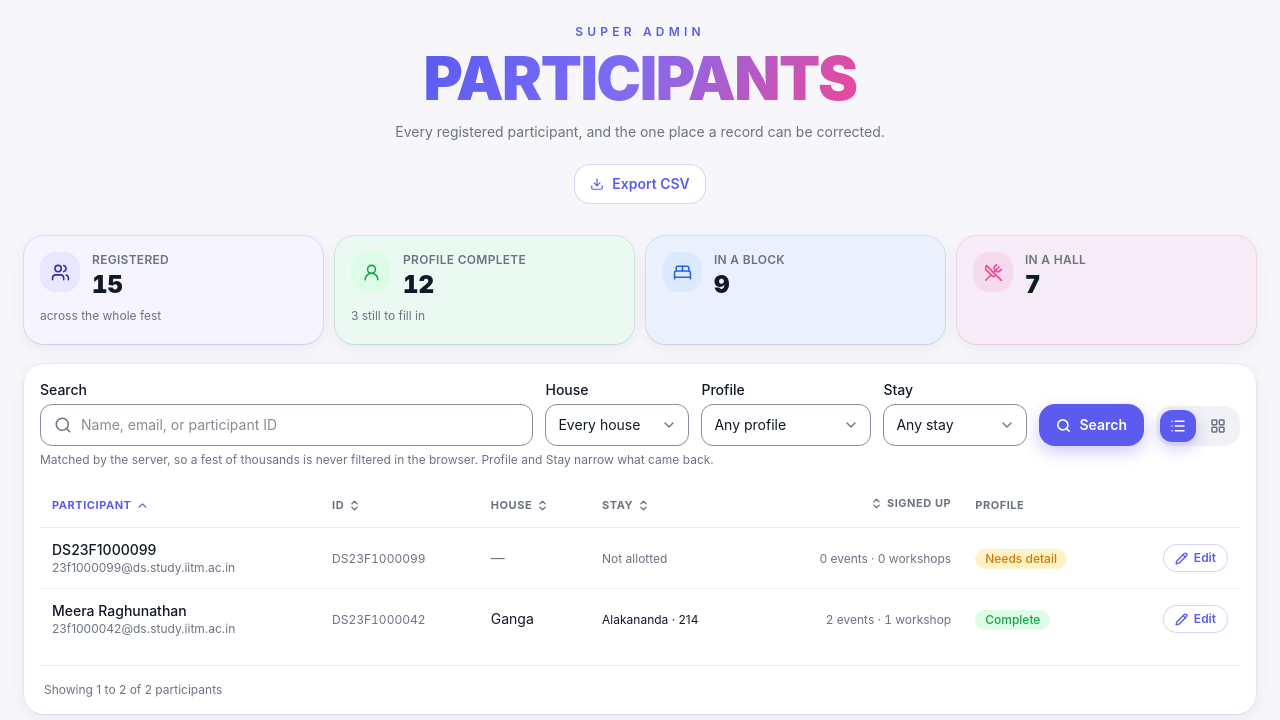
AdminParticipantsPage › switches the cards to the matching rows once a search is applied
This screenshot has width=1280, height=720.
Check: the text "Meera Raghunathan" is shown, box [52, 602, 187, 619]
Step 1. Click the field labelled "Search" → [287, 425], box [40, 404, 534, 446]
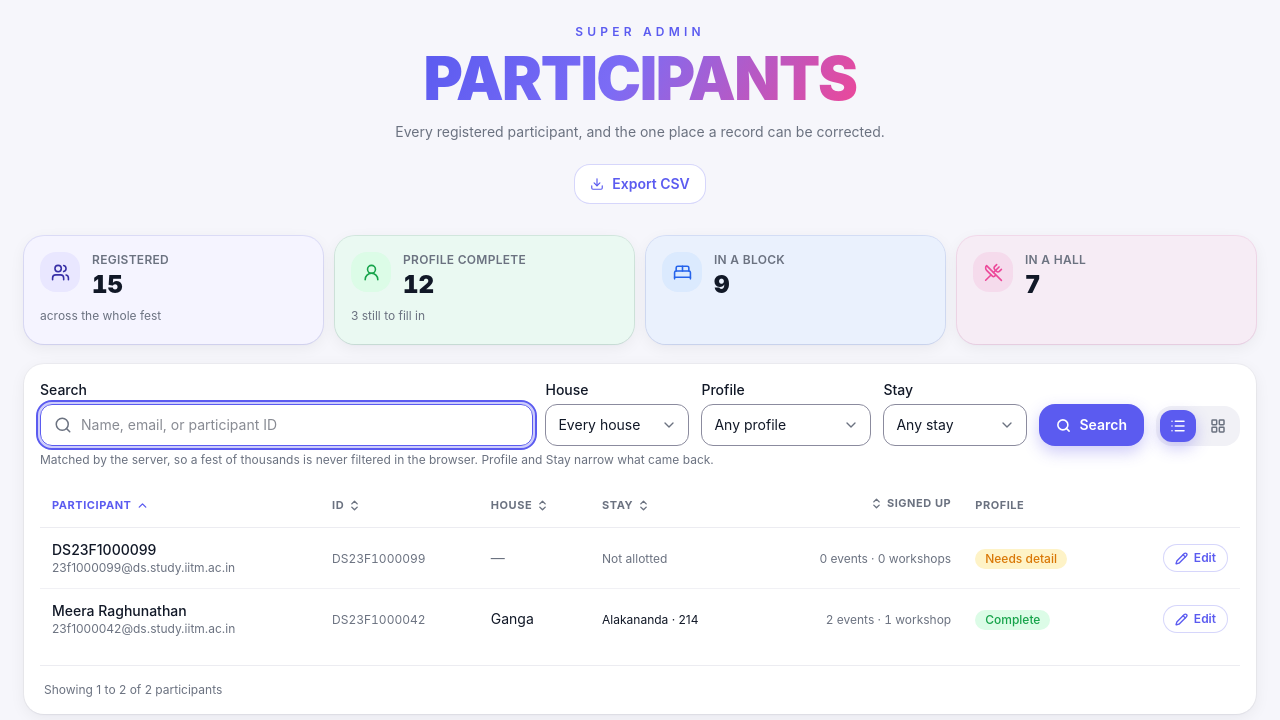
Step 2. Type keys "meera"
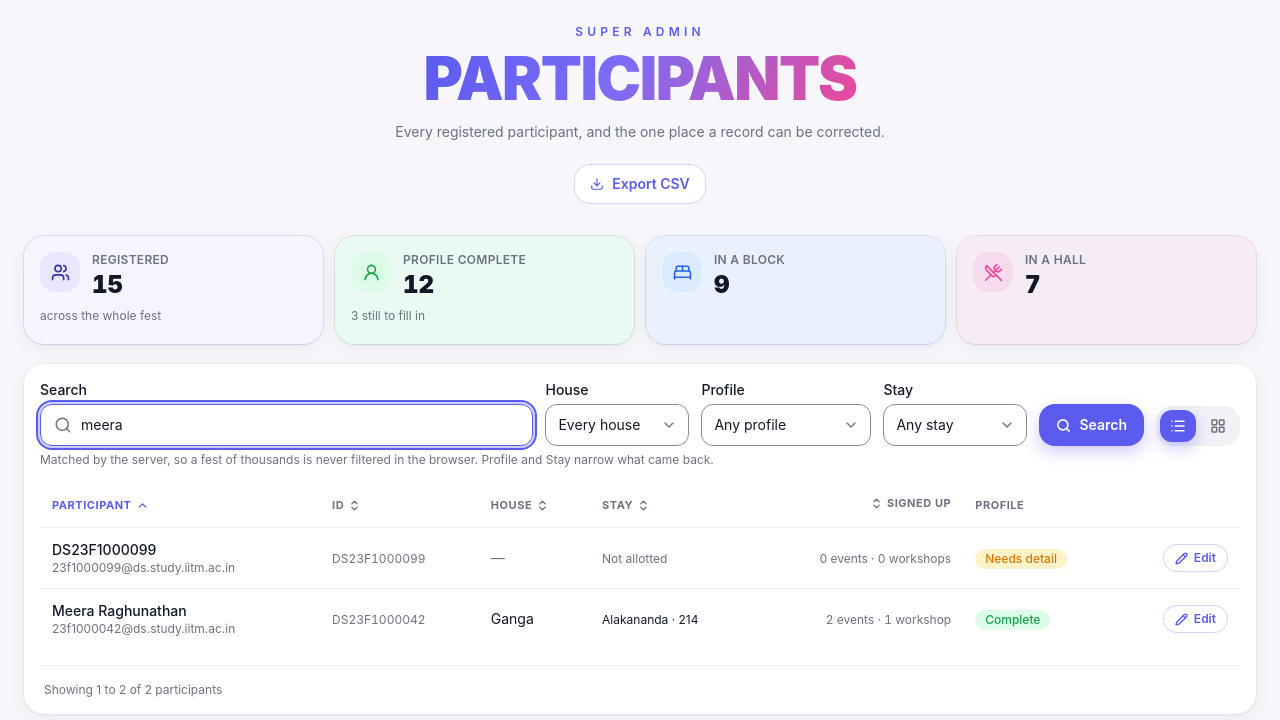
Step 3. Click the button "Search" → [1092, 425], box [1040, 404, 1144, 446]
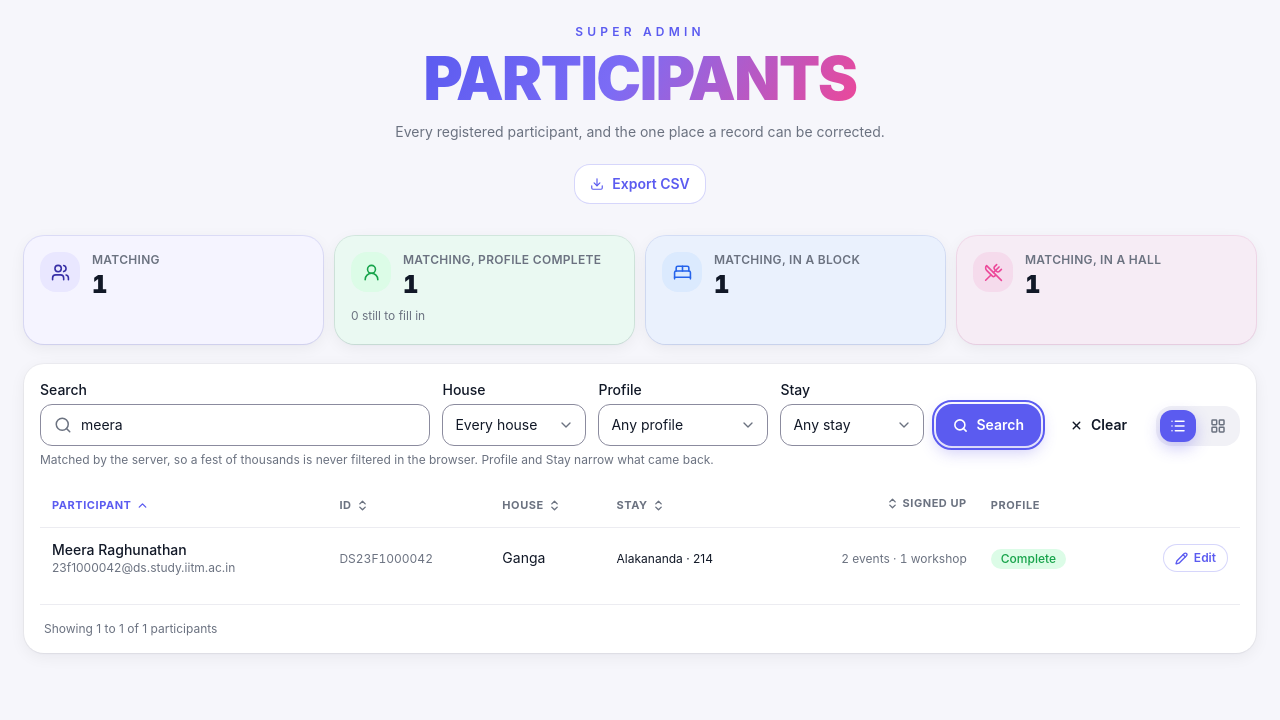
Check: the 1st text "1" is shown, box [92, 270, 108, 299]
Check: the text "across the whole fest" is gone
Check: the text "0 still to fill in" is shown, box [351, 308, 425, 323]
